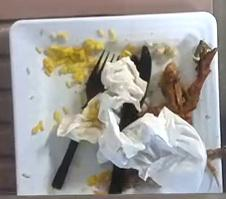rice: (42, 38, 103, 82)
